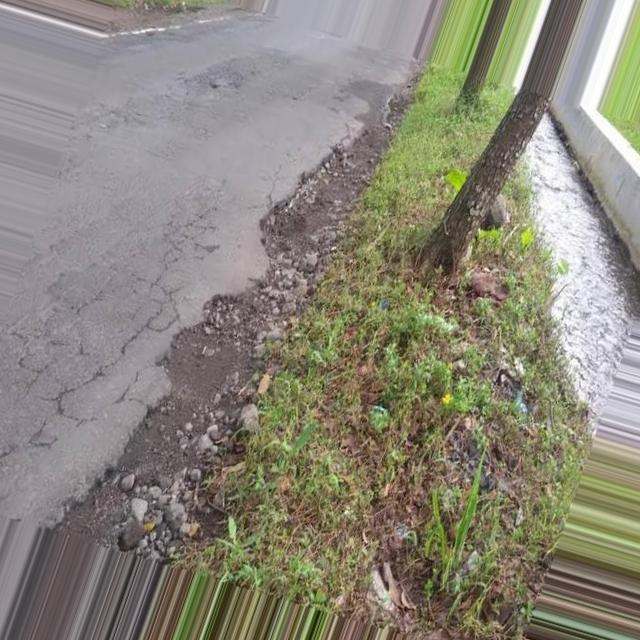Pinggir: (30, 117, 405, 580)
